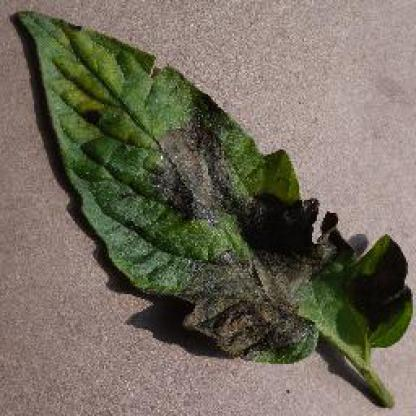bad leaf: (219, 184, 374, 291), (186, 251, 331, 354), (154, 128, 242, 222), (58, 74, 124, 151), (47, 22, 116, 80), (139, 57, 178, 91)
